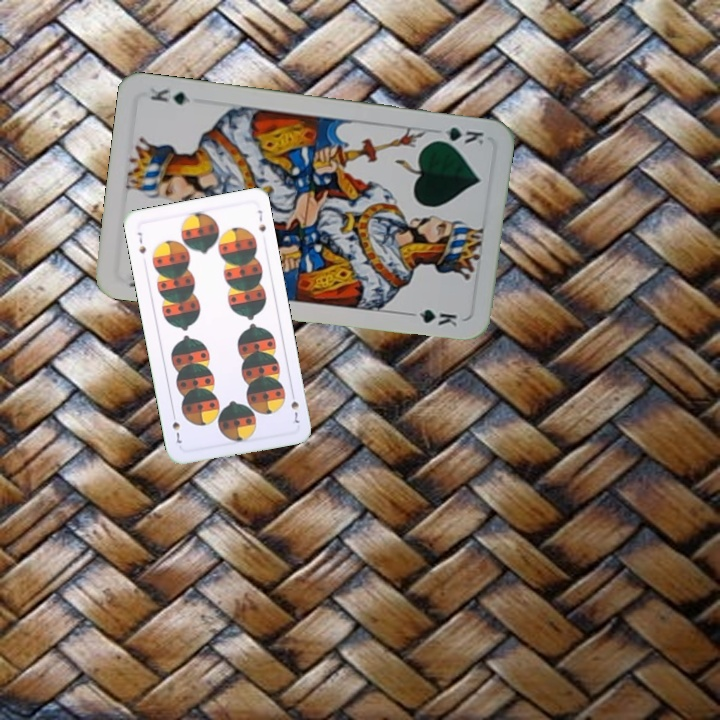GK: (429, 123, 486, 147)
S7: (287, 387, 302, 426), (133, 228, 148, 256)
